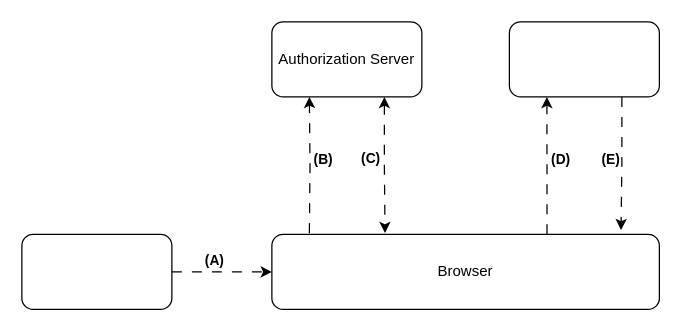
This 681x331 diagram has some shape labels left out. The box of each missing label's shape, as (x1, y1, x2, y2) in pixels:
Resource Server: (508, 21, 659, 97)
Static Web Host: (21, 233, 172, 309)
